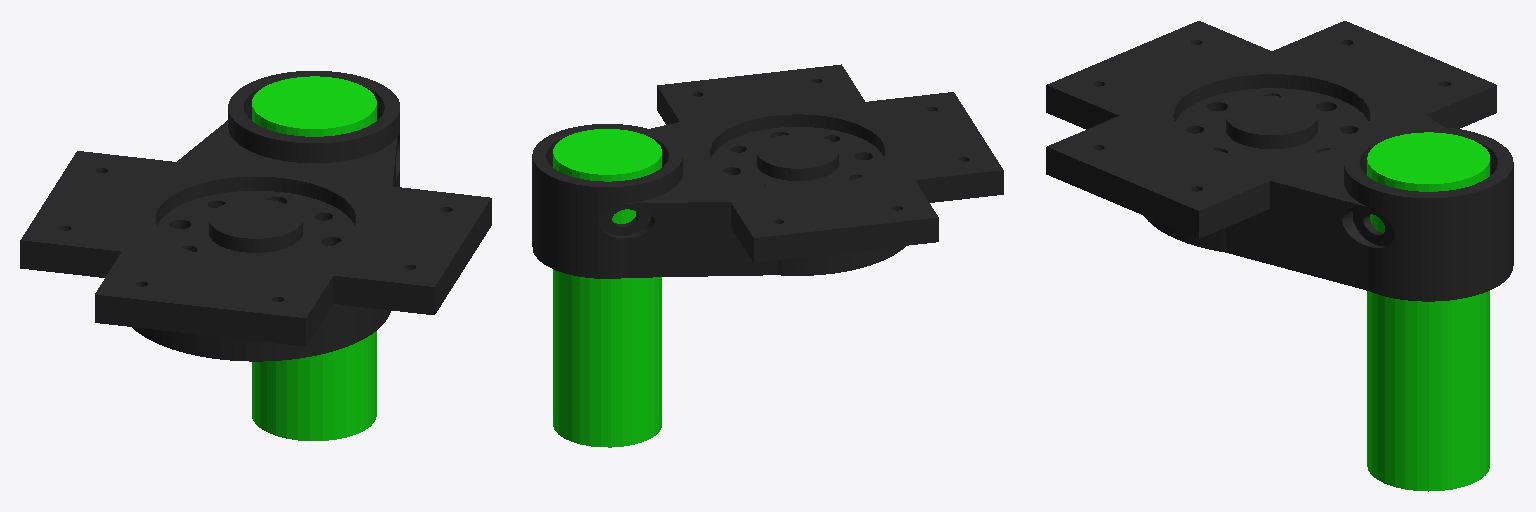
robot.urdf — panda:
<?xml version="1.0" ?>
<!-- =================================================================================== -->
<!-- |    This document was autogenerated by xacro from panda_drl.urdf.xacro           | -->
<!-- |    EDITING THIS FILE BY HAND IS NOT RECOMMENDED                                 | -->
<!-- =================================================================================== -->
<robot name="panda" xmlns:xacro="http://www.ros.org/wiki/xacro">
  <!-- arm {{ -->
  <link name="panda_link0">
    <inertial>
      <origin rpy="0 0 0" xyz="0 0 0.05"/>
      <mass value="2.9"/>
      <inertia ixx="0.1" ixy="0" ixz="0" iyy="0.1" iyz="0" izz="0.1"/>
    </inertial>
    <visual>
      <geometry>
        <mesh filename="package://meshes/collision/link0.obj"/>
      </geometry>
      <material name="panda_white">
        <color rgba="1. 1. 1. 1."/>
      </material>
    </visual>
    <collision>
      <geometry>
        <mesh filename="package://meshes/collision/link0.obj"/>
      </geometry>
      <material name="panda_white"/>
    </collision>
  </link>
  <link name="panda_link1">
    <inertial>
      <origin rpy="0 0 0" xyz="0 -0.04 -0.05"/>
      <mass value="2.7"/>
      <inertia ixx="0.1" ixy="0" ixz="0" iyy="0.1" iyz="0" izz="0.1"/>
    </inertial>
    <visual>
      <geometry>
        <mesh filename="package://meshes/visual/link1.obj"/>
      </geometry>
      <material name="panda_white"/>
    </visual>
    <collision>
      <geometry>
        <mesh filename="package://meshes/collision/link1.obj"/>
      </geometry>
      <material name="panda_white"/>
    </collision>
  </link>
  <joint name="panda_joint1" type="revolute">
    <safety_controller k_position="100.0" k_velocity="40.0" soft_lower_limit="-2.8973" soft_upper_limit="2.8973"/>
    <origin rpy="0 0 0" xyz="0 0 0.333"/>
    <parent link="panda_link0"/>
    <child link="panda_link1"/>
    <axis xyz="0 0 1"/>
    <limit effort="87" lower="-2.9671" upper="2.9671" velocity="2.1750"/>
  </joint>
  <link name="panda_link2">
    <inertial>
      <origin rpy="0 0 0" xyz="0 -0.04 0.06"/>
      <mass value="2.73"/>
      <inertia ixx="0.1" ixy="0" ixz="0" iyy="0.1" iyz="0" izz="0.1"/>
    </inertial>
    <visual>
      <geometry>
        <mesh filename="package://meshes/visual/link2.obj"/>
      </geometry>
      <material name="panda_white"/>
    </visual>
    <collision>
      <geometry>
        <mesh filename="package://meshes/collision/link2.obj"/>
      </geometry>
      <material name="panda_white"/>
    </collision>
  </link>
  <joint name="panda_joint2" type="revolute">
    <safety_controller k_position="100.0" k_velocity="40.0" soft_lower_limit="-1.7628" soft_upper_limit="1.7628"/>
    <origin rpy="-1.57079632679 0 0" xyz="0 0 0"/>
    <parent link="panda_link1"/>
    <child link="panda_link2"/>
    <axis xyz="0 0 1"/>
    <limit effort="87" lower="-1.8326" upper="1.8326" velocity="2.1750"/>
  </joint>
  <link name="panda_link3">
    <inertial>
      <origin rpy="0 0 0" xyz="0.01 0.01 -0.05"/>
      <mass value="2.04"/>
      <inertia ixx="0.1" ixy="0" ixz="0" iyy="0.1" iyz="0" izz="0.1"/>
    </inertial>
    <visual>
      <geometry>
        <mesh filename="package://meshes/visual/link3.obj"/>
      </geometry>
      <material name="panda_red">
        <color rgba="1. 1. 1. 1."/>
      </material>
    </visual>
    <collision>
      <geometry>
        <mesh filename="package://meshes/collision/link3.obj"/>
      </geometry>
    </collision>
  </link>
  <joint name="panda_joint3" type="revolute">
    <safety_controller k_position="100.0" k_velocity="40.0" soft_lower_limit="-2.8973" soft_upper_limit="2.8973"/>
    <origin rpy="1.57079632679 0 0" xyz="0 -0.316 0"/>
    <parent link="panda_link2"/>
    <child link="panda_link3"/>
    <axis xyz="0 0 1"/>
    <limit effort="87" lower="-2.9671" upper="2.9671" velocity="2.1750"/>
  </joint>
  <link name="panda_link4">
    <inertial>
      <origin rpy="0 0 0" xyz="-0.03 0.03 0.02"/>
      <mass value="2.08"/>
      <inertia ixx="0.1" ixy="0" ixz="0" iyy="0.1" iyz="0" izz="0.1"/>
    </inertial>
    <visual>
      <geometry>
        <mesh filename="package://meshes/visual/link4.obj"/>
      </geometry>
      <material name="panda_white"/>
    </visual>
    <collision>
      <geometry>
        <mesh filename="package://meshes/collision/link4.obj"/>
      </geometry>
      <material name="panda_white"/>
    </collision>
  </link>
  <joint name="panda_joint4" type="revolute">
    <safety_controller k_position="100.0" k_velocity="40.0" soft_lower_limit="-3.0718" soft_upper_limit="-0.0698"/>
    <origin rpy="1.57079632679 0 0" xyz="0.0825 0 0"/>
    <parent link="panda_link3"/>
    <child link="panda_link4"/>
    <axis xyz="0 0 1"/>
    <limit effort="87" lower="-3.1416" upper="0.0" velocity="2.1750"/>
  </joint>
  <link name="panda_link5">
    <inertial>
      <origin rpy="0 0 0" xyz="0 0.04 -0.12"/>
      <mass value="3"/>
      <inertia ixx="0.1" ixy="0" ixz="0" iyy="0.1" iyz="0" izz="0.1"/>
    </inertial>
    <visual>
      <geometry>
        <mesh filename="package://meshes/visual/link5.obj"/>
      </geometry>
      <material name="panda_white"/>
    </visual>
    <collision>
      <geometry>
        <mesh filename="package://meshes/collision/link5.obj"/>
      </geometry>
      <material name="panda_white"/>
    </collision>
  </link>
  <joint name="panda_joint5" type="revolute">
    <safety_controller k_position="100.0" k_velocity="40.0" soft_lower_limit="-2.8973" soft_upper_limit="2.8973"/>
    <origin rpy="-1.57079632679 0 0" xyz="-0.0825 0.384 0"/>
    <parent link="panda_link4"/>
    <child link="panda_link5"/>
    <axis xyz="0 0 1"/>
    <limit effort="12" lower="-2.9671" upper="2.9671" velocity="2.6100"/>
  </joint>
  <link name="panda_link6">
    <inertial>
      <origin rpy="0 0 0" xyz="0.04 0 0"/>
      <mass value="1.3"/>
      <inertia ixx="0.1" ixy="0" ixz="0" iyy="0.1" iyz="0" izz="0.1"/>
    </inertial>
    <visual>
      <geometry>
        <mesh filename="package://meshes/visual/link6.obj"/>
      </geometry>
      <material name="panda_white"/>
    </visual>
    <collision>
      <geometry>
        <mesh filename="package://meshes/collision/link6.obj"/>
      </geometry>
      <material name="panda_white"/>
    </collision>
  </link>
  <joint name="panda_joint6" type="revolute">
    <safety_controller k_position="100.0" k_velocity="40.0" soft_lower_limit="-0.0175" soft_upper_limit="3.7525"/>
    <origin rpy="1.57079632679 0 0" xyz="0 0 0"/>
    <parent link="panda_link5"/>
    <child link="panda_link6"/>
    <axis xyz="0 0 1"/>
    <limit effort="12" lower="-0.0873" upper="3.8223" velocity="2.6100"/>
  </joint>
  <link name="panda_link7">
    <inertial>
      <origin rpy="0 0 0" xyz="0 0 0.08"/>
      <mass value=".2"/>
      <inertia ixx="0.1" ixy="0" ixz="0" iyy="0.1" iyz="0" izz="0.1"/>
    </inertial>
    <visual>
      <geometry>
        <mesh filename="package://meshes/collision/link7.obj"/>
      </geometry>
      <material name="panda_white"/>
    </visual>
    <collision>
      <geometry>
        <mesh filename="package://meshes/collision/link7.obj"/>
      </geometry>
      <material name="panda_white"/>
    </collision>
  </link>
  <joint name="panda_joint7" type="revolute">
    <safety_controller k_position="100.0" k_velocity="40.0" soft_lower_limit="-2.8973" soft_upper_limit="2.8973"/>
    <origin rpy="1.57079632679 0 0" xyz="0.088 0 0"/>
    <parent link="panda_link6"/>
    <child link="panda_link7"/>
    <axis xyz="0 0 1"/>
    <limit effort="12" lower="-2.9671" upper="2.9671" velocity="2.6100"/>
  </joint>
  <link name="panda_link8">
    <inertial>
      <origin rpy="0 0 0" xyz="0 0 0"/>
      <mass value="0.0"/>
      <inertia ixx="0.1" ixy="0" ixz="0" iyy="0.1" iyz="0" izz="0.1"/>
    </inertial>
  </link>
  <joint name="panda_joint8" type="fixed">
    <origin rpy="0 0 0" xyz="0 0 0.107"/>
    <parent link="panda_link7"/>
    <child link="panda_link8"/>
    <axis xyz="0 0 0"/>
  </joint>
  <!-- }} arm -->
  <!-- gripper {{ -->
  <material name="black">
    <color rgba="0.2 0.2 0.2 1"/>
  </material>
  <material name="green">
    <color rgba="0.1 0.9 0.1 1"/>
  </material>
  <joint name="panda_suction_gripper_joint" type="fixed">
    <parent link="panda_link8"/>
    <child link="panda_suction_gripper"/>
    <origin rpy="3.141592653589793 0 -0.7853981633974483" xyz="0 0 0.0065"/>
  </joint>
  <link name="panda_suction_gripper">
    <visual>
      <geometry>
        <mesh filename="panda_drl/visual/suction_mount.obj"/>
      </geometry>
      <material name="black"/>
    </visual>
    <collision>
      <geometry>
        <mesh filename="panda_drl/collision/suction_mount.obj"/>
      </geometry>
    </collision>
  </link>
  <link name="tipLink">
    <visual>
      <geometry>
        <cylinder length="0.11" radius="0.02"/>
      </geometry>
      <origin xyz="0 0 -0.055"/>
      <material name="green"/>
    </visual>
    <collision>
      <geometry>
        <cylinder length="0.11" radius="0.02"/>
      </geometry>
      <origin xyz="0 0 -0.055"/>
    </collision>
  </link>
  <joint name="panda_suction_mount_to_cup_joint" type="fixed">
    <parent link="panda_suction_gripper"/>
    <child link="tipLink"/>
    <origin rpy="3.141592653589793 0 0" xyz="0.072 0 -0.09"/>
  </joint>
  <!-- }} gripper -->
</robot>

--- Facts derived from the render (not from the file) ---
Views: 3 orthographic renders of the robot side by side, from view 1: azimuth 30°, elevation 25°; view 2: azimuth 150°, elevation 25°; view 3: azimuth 270°, elevation 25°.
Robot: panda — 11 links, 10 joints (7 revolute, 3 fixed); root link panda_link0; default pose: every joint at zero.
Visible links, largest first — view 1: panda_suction_gripper, tipLink; view 2: panda_suction_gripper, tipLink; view 3: panda_suction_gripper, tipLink.
Boxes of the visible links, x1=… form: panda_suction_gripper: x1=20, y1=71, x2=491, y2=361; tipLink: x1=252, y1=76, x2=376, y2=440; panda_suction_gripper: x1=532, y1=64, x2=1003, y2=278; tipLink: x1=553, y1=129, x2=661, y2=447; panda_suction_gripper: x1=1046, y1=21, x2=1513, y2=301; tipLink: x1=1367, y1=132, x2=1489, y2=491.
Bounding box of the posed robot: 0.1516 × 0.1516 × 0.11 m (x, y, z).
Meshes: 9 distinct files referenced, 1 mesh visuals loaded (1 OBJ); not drawn: 8 (reference not matched to a file when rendering).